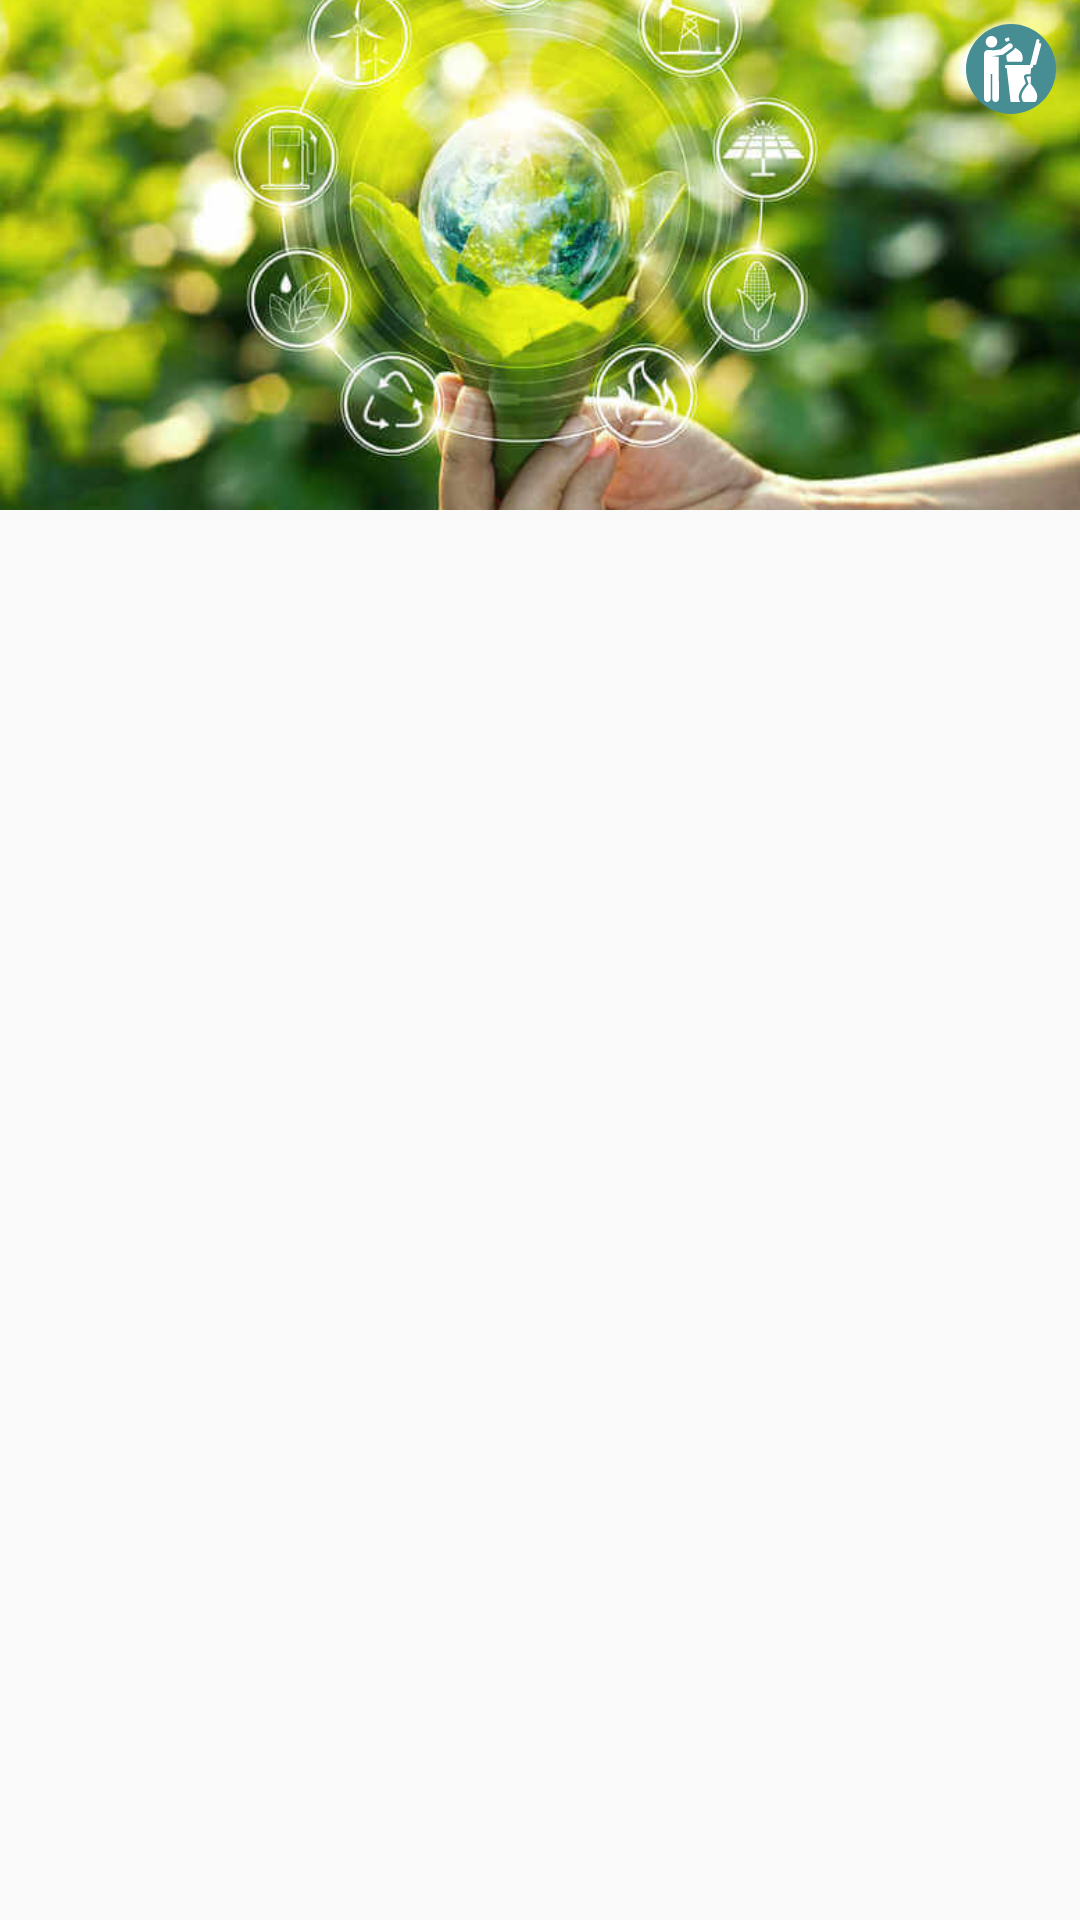

Named icons in this screenshot (1080px x 1920px) and their centers, (x,y):
garbage: (1011,69)
